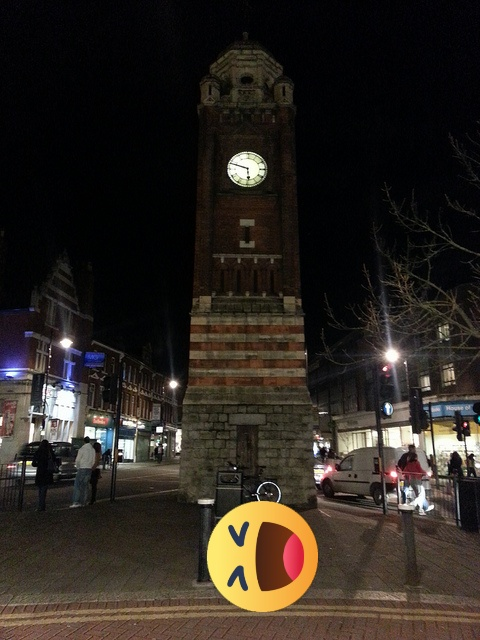haha: (207, 501, 318, 612)
